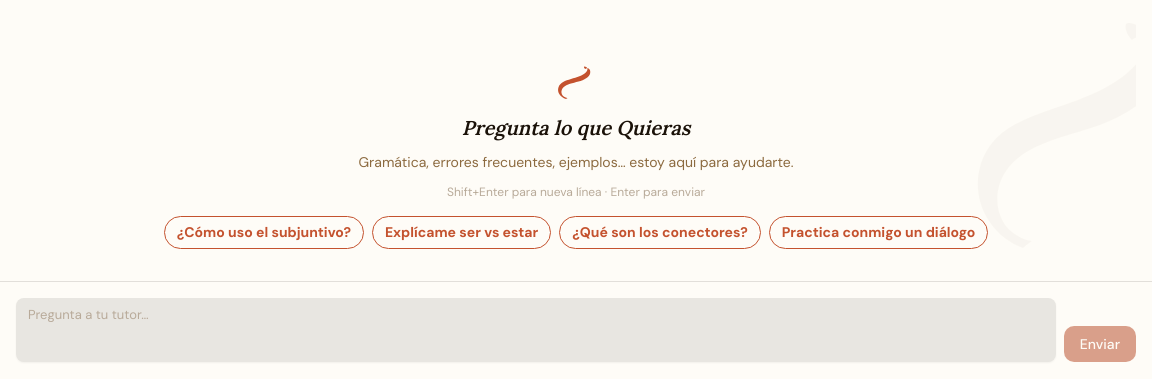
it: TutorChat › streaming › streams assistant response into bubble
The image size is (1152, 379).
Type "Hi" into the text box with placeholder "Pregunta a tu tutor…".
click(536, 330); type("Hi")  # box x1=16 y1=298 x2=1056 y2=362
Then press Enter
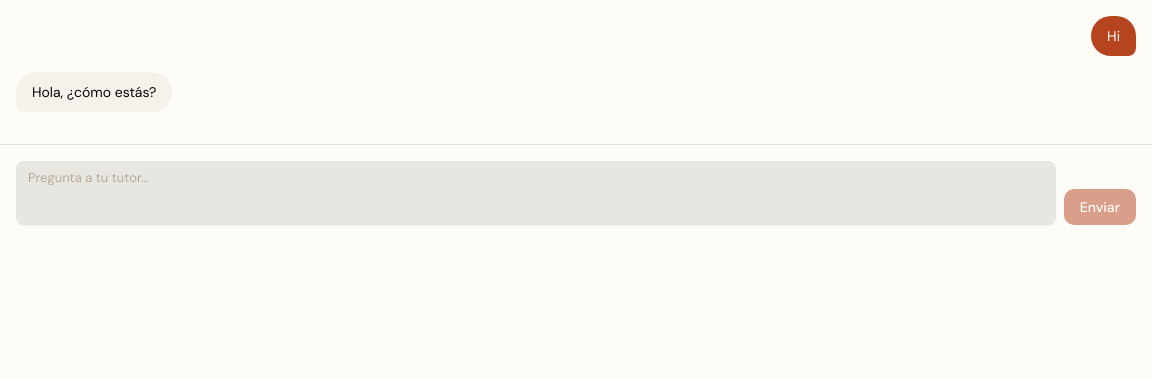
Now the text "Hola, ¿cómo estás?" is shown, box x1=16 y1=72 x2=172 y2=112
